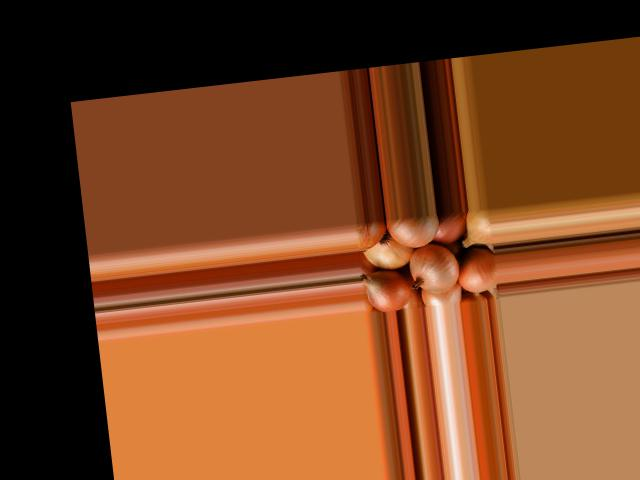onion: (417, 279, 464, 307)
